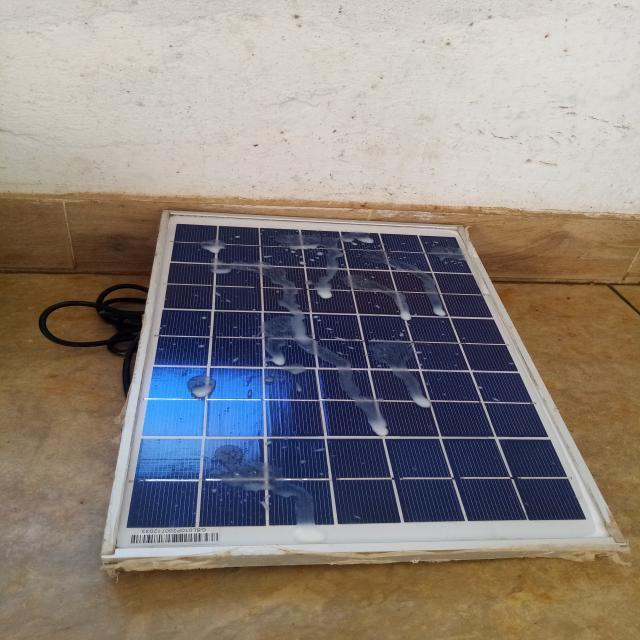faulty: (109, 212, 619, 552)
